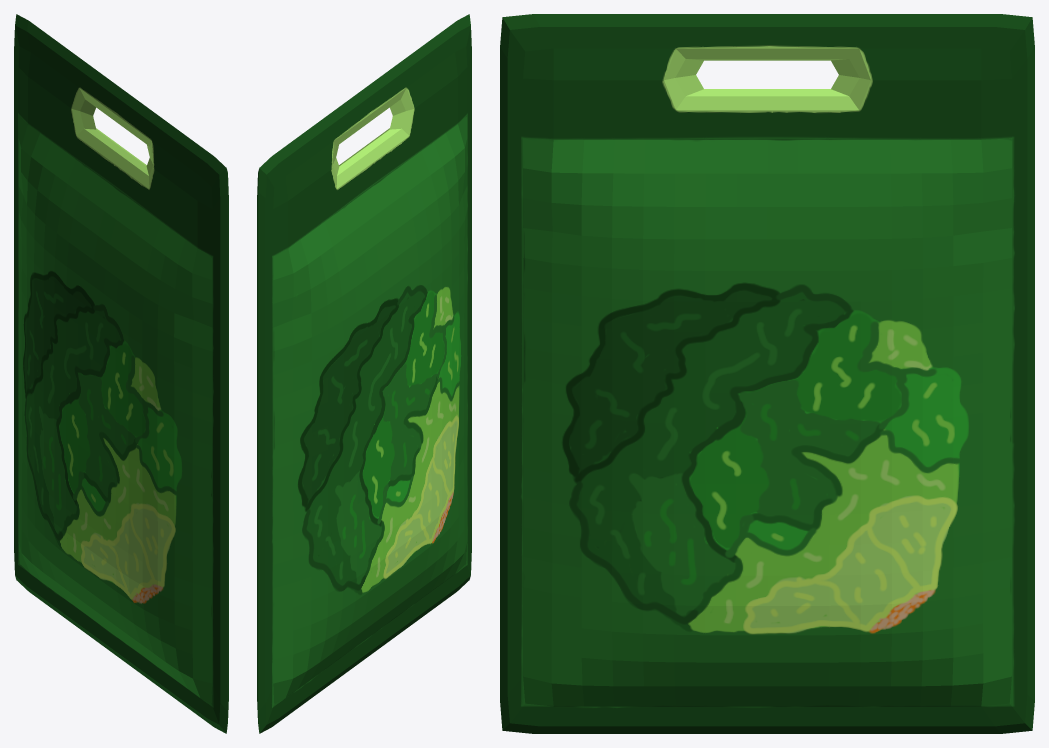
File: Seeds_Letuce.fbx
3 renders of one model, left to right at view 1: azimuth 30°, elevation 25°; view 2: azimuth 150°, elevation 25°; view 3: azimuth 270°, elevation 25°, orthographic. The views are drawn at different scales.
Parts seen in each view (by area): view 1: Cube; view 2: Cube; view 3: Cube.
Boxes of the visible parts, x1,y1,x2,y2 form: Cube: (14, 14, 228, 733); Cube: (257, 14, 471, 733); Cube: (500, 14, 1034, 733).
Size of the model in its own units: 24.97 by 219 by 147.
